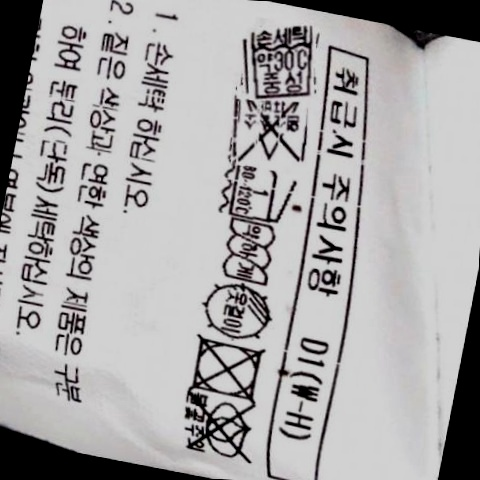DN_tumble_dry: (182, 333, 269, 402)
hand_wash: (240, 25, 321, 99)
iron_low: (224, 162, 294, 225)
line_dry_in_shade: (197, 281, 279, 341)
wring: (219, 218, 277, 287)
